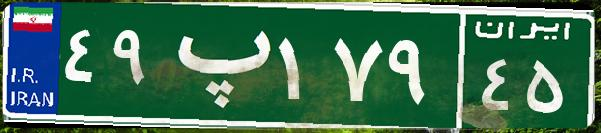1: (273, 28, 330, 110)
4: (57, 26, 110, 107), (475, 38, 525, 113)
5: (525, 38, 570, 115)
7: (330, 28, 385, 110)
9: (385, 28, 445, 110), (110, 28, 158, 105)
پ: (158, 15, 273, 115)
